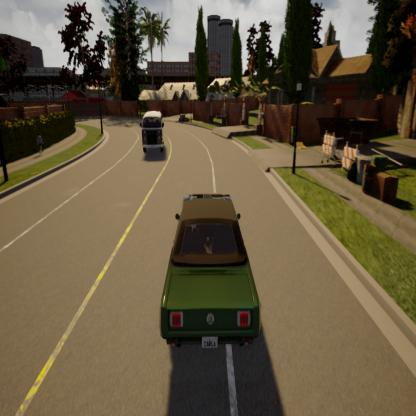Cars: (160, 184, 272, 372), (135, 101, 170, 167)
